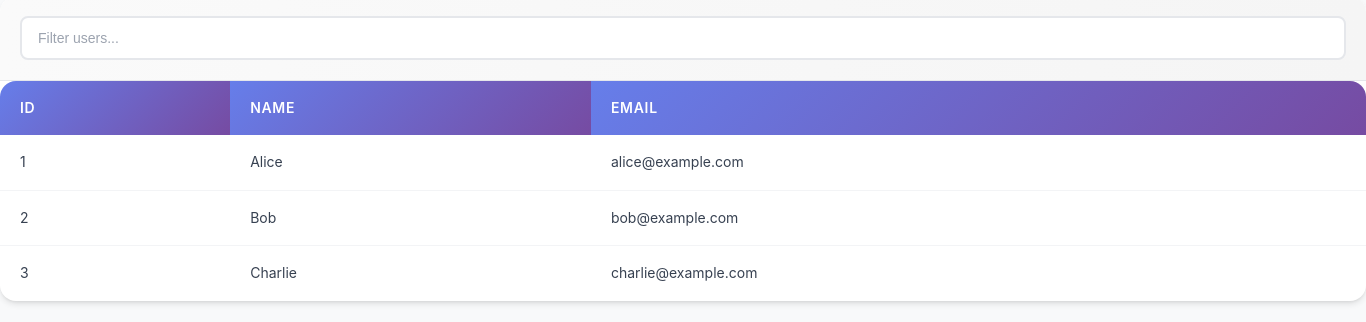
Test case: DataTable › should filter data when typing in filter input
Step 1. Type "Alice" into the field with placeholder "Filter users..." → (683,38), box [20,16,1346,60]
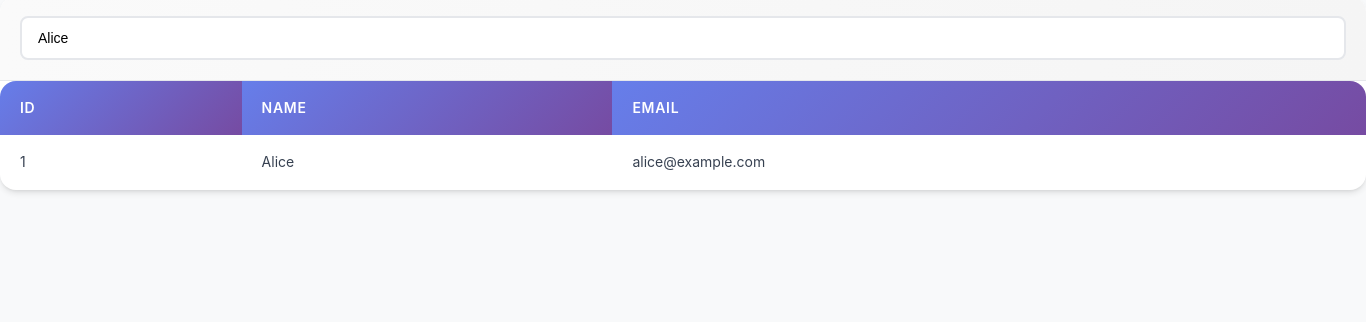
Expected: the text "Alice" is shown, [242,135,612,190]
Now the text "Bob" is gone
Now the text "Charlie" is gone
